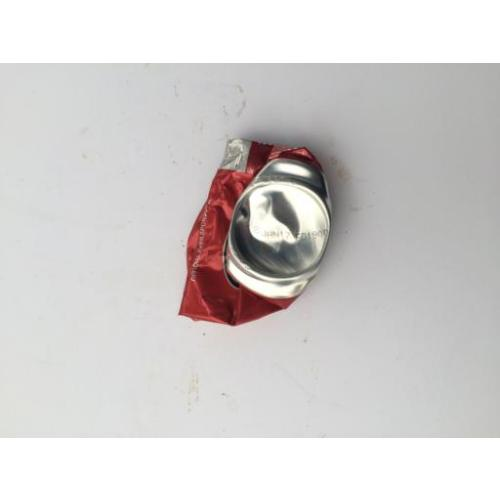metal: (182, 138, 330, 325)
